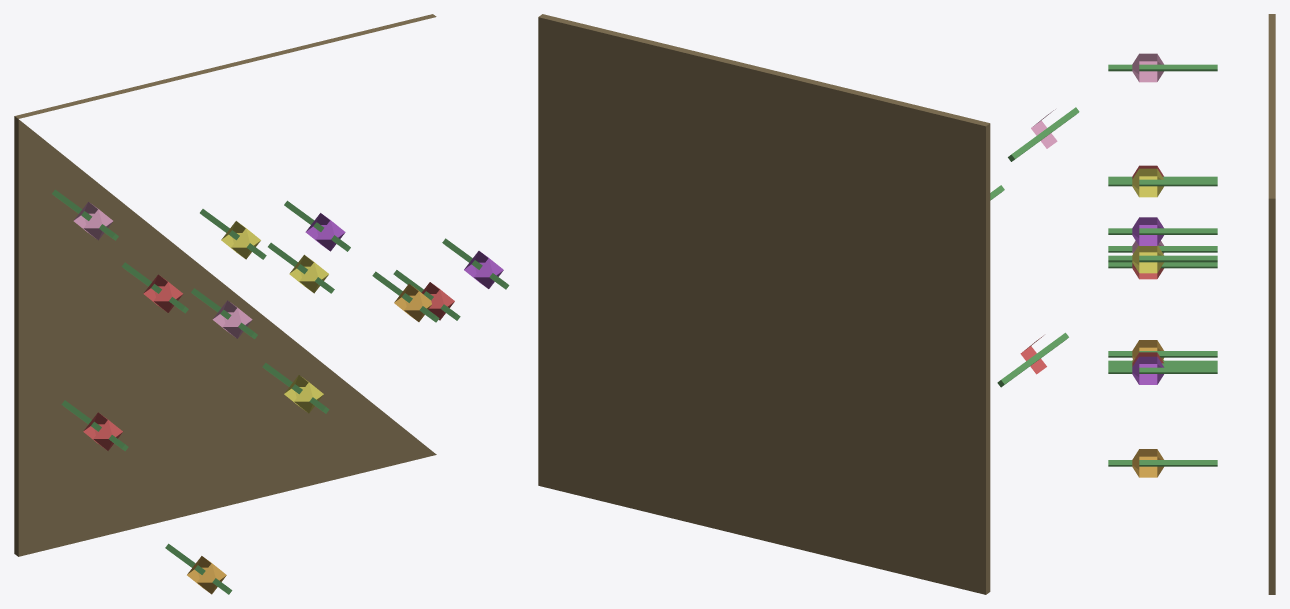
Rendered from flowers.glb.
3 views of the same model, side by side, from view 1: azimuth 30°, elevation 25°; view 2: azimuth 150°, elevation 25°; view 3: azimuth 270°, elevation 25° (orthographic). The views are drawn at different scales.
Visible parts, largest first — view 1: geometry_0; view 2: geometry_0; view 3: geometry_0.
Boxes of the visible parts, <box> form: geometry_0: <box>14,14,509,594</box>; geometry_0: <box>538,14,1079,594</box>; geometry_0: <box>1108,14,1275,594</box>.
Size of the model in its own units: 0.6095 by 0.6207 by 0.23.
